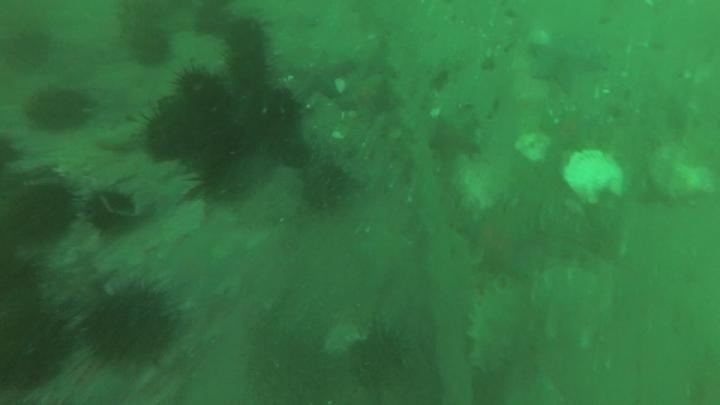echinus: (82, 280, 178, 366), (1, 298, 72, 394), (243, 335, 333, 404), (345, 322, 416, 395), (5, 180, 78, 244), (139, 99, 212, 163), (194, 135, 257, 202), (236, 84, 304, 144), (115, 2, 174, 61), (24, 85, 94, 134), (172, 65, 231, 116), (299, 160, 352, 212), (84, 185, 138, 234), (128, 25, 174, 68), (223, 16, 270, 58), (224, 48, 269, 89), (190, 2, 235, 41), (1, 132, 26, 171)
holothurian: (464, 283, 533, 377)
scallop: (529, 264, 616, 348), (646, 141, 717, 204), (561, 147, 627, 205), (319, 318, 369, 360), (513, 129, 553, 165)
starfish: (456, 201, 541, 278), (528, 35, 608, 94), (282, 46, 354, 102), (427, 111, 483, 166), (342, 35, 397, 82), (339, 73, 393, 119)
